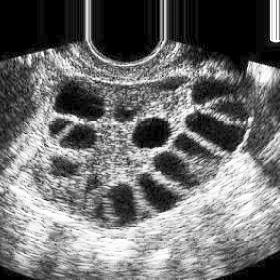PCOS: (138, 168, 174, 213), (189, 110, 240, 140), (179, 132, 220, 165), (62, 86, 104, 116), (162, 148, 193, 186), (136, 118, 172, 148), (116, 175, 136, 224), (191, 82, 230, 102), (70, 125, 98, 150), (51, 156, 81, 178), (119, 105, 142, 118), (54, 118, 68, 136)
